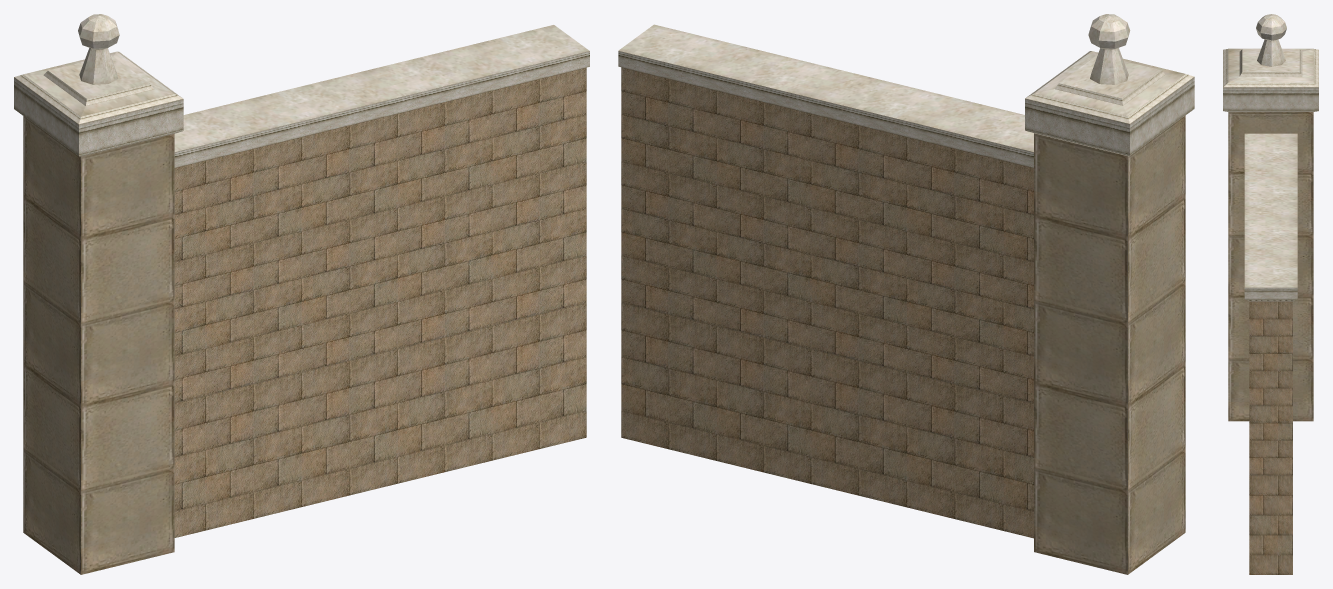
The model's file is thm_nboo_thed_imprv_wallendpiece_s01_l0.fbx.
The picture shows the model from 3 angles, left to right: view 1: azimuth 30°, elevation 25°; view 2: azimuth 150°, elevation 25°; view 3: azimuth 270°, elevation 25°; orthographic projection. The views are drawn at different scales.
Parts seen in each view (by area): view 1: mesh_node; view 2: mesh_node; view 3: mesh_node.
Boxes of the visible parts, box(x1,y1,x2,y2) form: mesh_node: box(14, 14, 589, 574); mesh_node: box(618, 14, 1194, 574); mesh_node: box(1223, 14, 1318, 574).
Size of the model in its own units: 11.41 by 10.91 by 2.43.
Materials: 1 (1 with a texture image).
